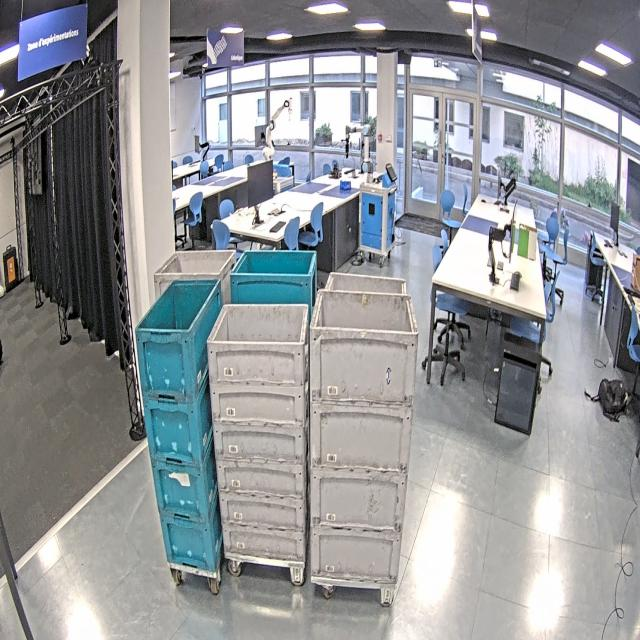Box3G: (210, 302, 308, 391), (209, 382, 311, 429), (213, 420, 310, 464), (220, 487, 306, 536), (221, 515, 307, 561), (220, 458, 310, 499)
Box4G: (308, 288, 425, 409), (308, 389, 413, 481), (307, 458, 407, 538), (154, 245, 238, 317), (310, 520, 400, 586)
BoxB4: (132, 285, 226, 403), (144, 381, 216, 467), (149, 451, 224, 524), (226, 248, 320, 305), (156, 507, 225, 574)
